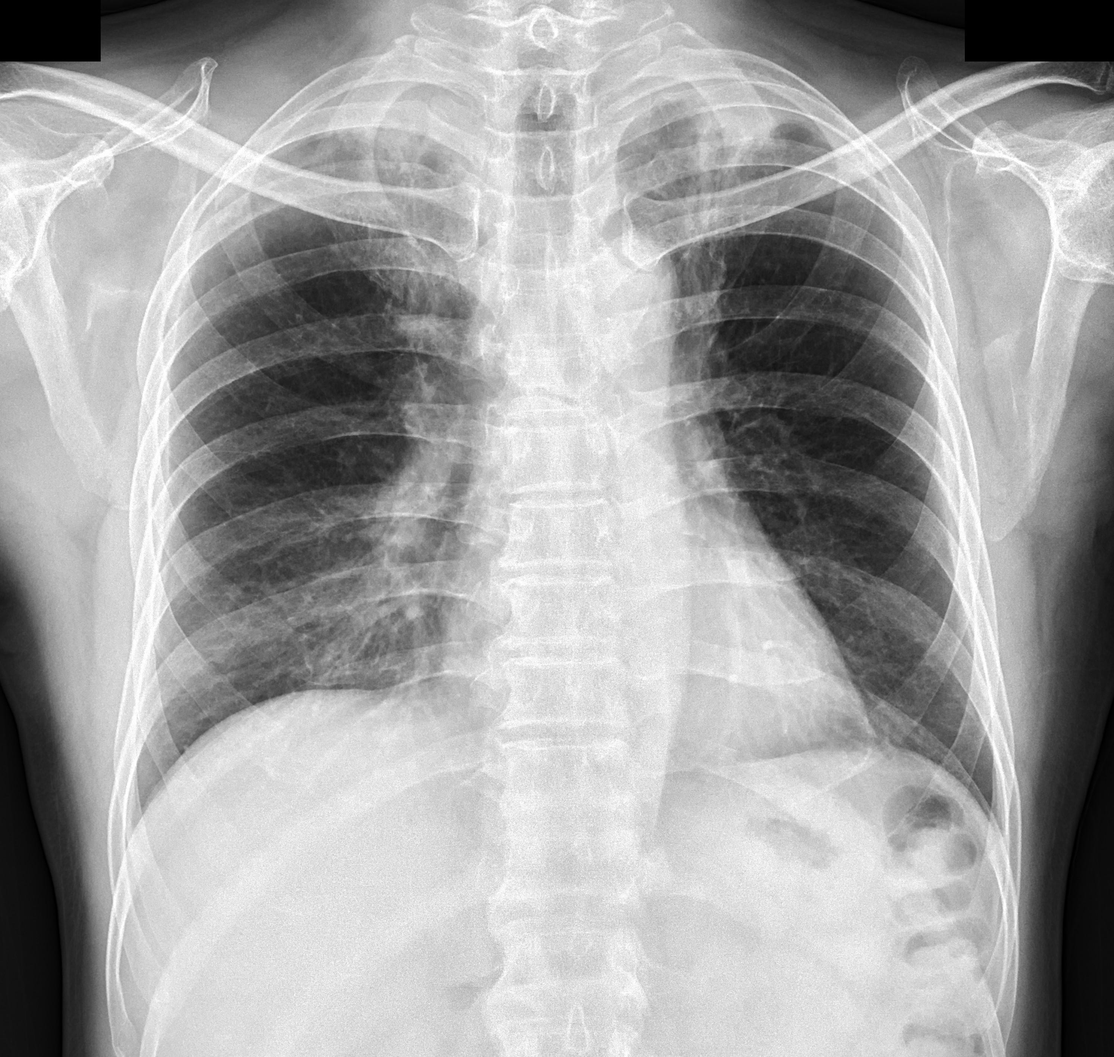Pulmonary fibrosis: (613, 67, 782, 259), (306, 79, 449, 230)
